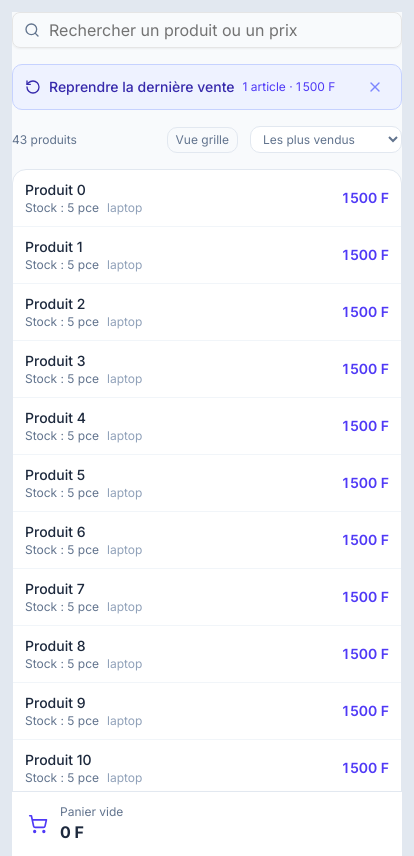
POS — le panier ne recouvre pas l'application sur grand écran › « Reprendre la dernière vente » laisse le panier en colonne
Click the button "Reprendre la dernière vente 1 article · 1 500 F": (191,87) [25,75,357,99]
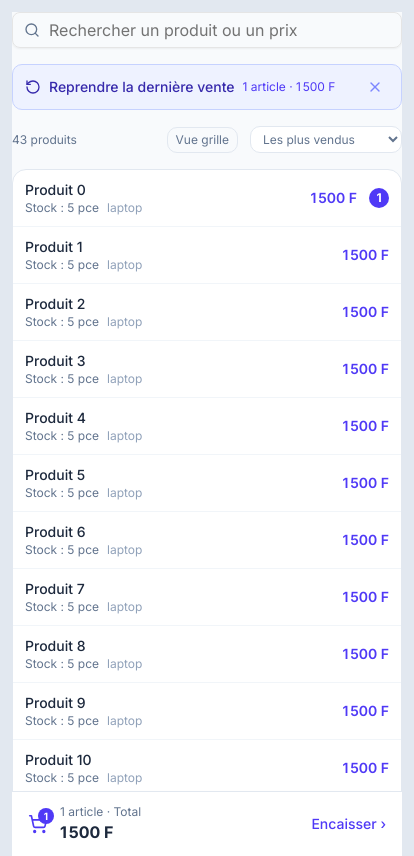
Now the button with aria-label "1 article, total" is shown, box [12,791,402,855]
